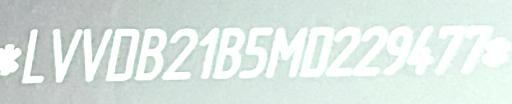letter: (264, 26, 308, 77), (324, 24, 362, 78), (160, 26, 198, 80), (210, 25, 244, 83), (298, 25, 334, 78), (106, 27, 140, 82), (52, 26, 84, 84), (82, 26, 114, 84), (238, 26, 274, 77), (352, 24, 386, 77), (133, 27, 167, 80), (434, 23, 466, 75), (460, 24, 492, 75), (406, 22, 434, 77), (382, 25, 412, 76), (20, 27, 46, 83), (197, 26, 219, 80)
